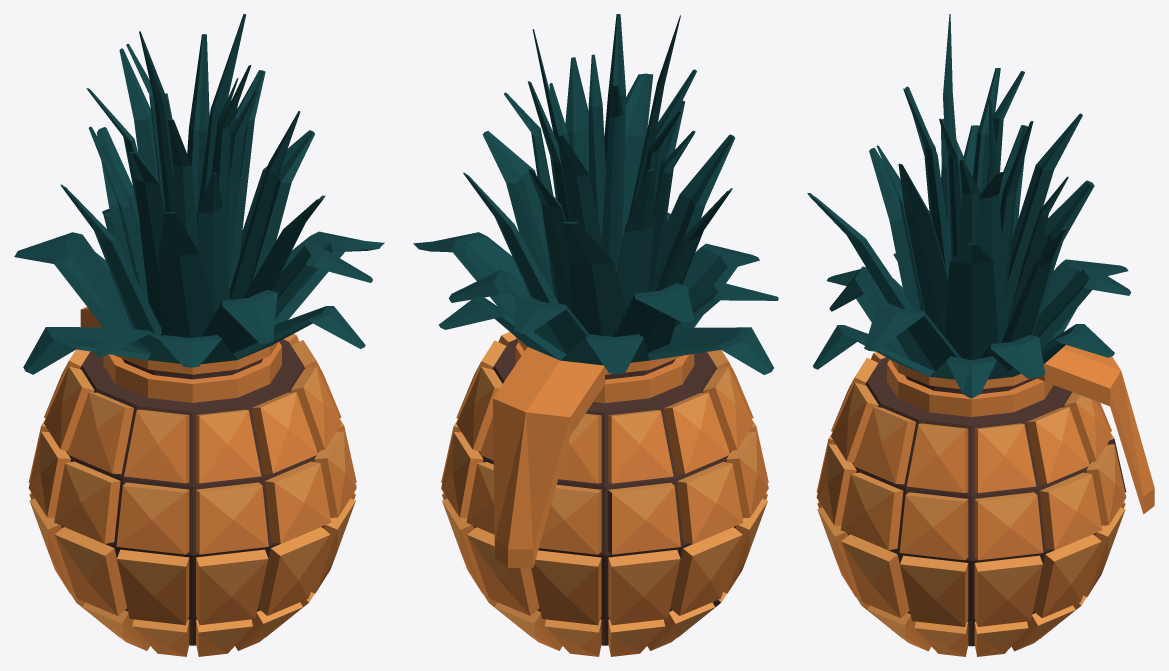
File: PineappleGrenade.dae
3 renders of one model, left to right at view 1: azimuth 30°, elevation 25°; view 2: azimuth 150°, elevation 25°; view 3: azimuth 270°, elevation 25°, orthographic. The views are drawn at different scales.
Parts seen in each view (by area): view 1: Cylinder; view 2: Cylinder; view 3: Cylinder.
Part boxes in pixels (left/top/right/bottom): Cylinder: left=14, top=14, right=384, bottom=656; Cylinder: left=413, top=14, right=778, bottom=656; Cylinder: left=807, top=14, right=1154, bottom=656.
Bounding box in the file's own units: 2.99 × 2.66 × 4.9.
